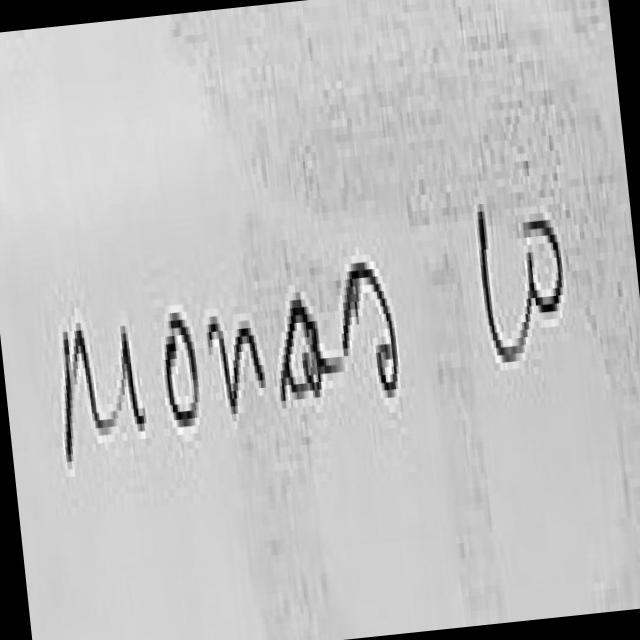0: (526, 219, 560, 306)
1: (480, 211, 532, 356)
M: (63, 322, 146, 457)
a: (281, 299, 342, 393)
n: (207, 324, 263, 410)
o: (169, 312, 195, 421)
s: (342, 261, 396, 392)
